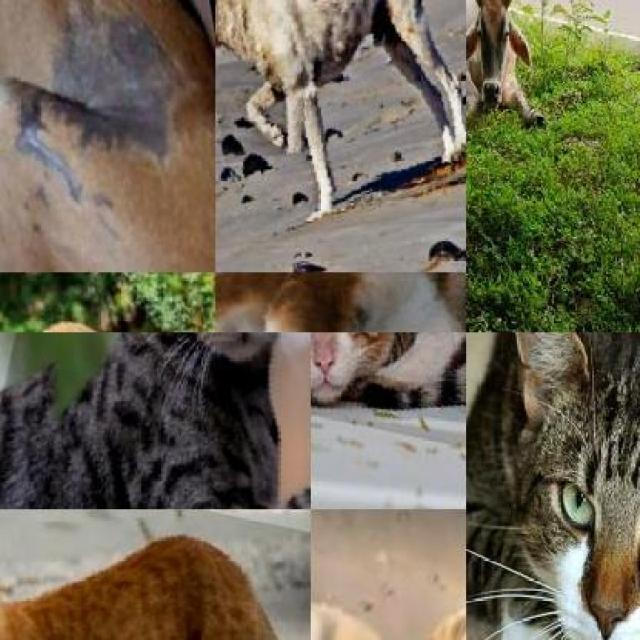cat: (0, 332, 311, 510), (466, 332, 640, 640), (0, 509, 311, 640)
cow: (466, 0, 525, 131)
dog: (215, 0, 466, 255), (0, 0, 215, 272), (311, 523, 466, 640), (216, 272, 467, 332)
injured: (215, 49, 314, 163)
